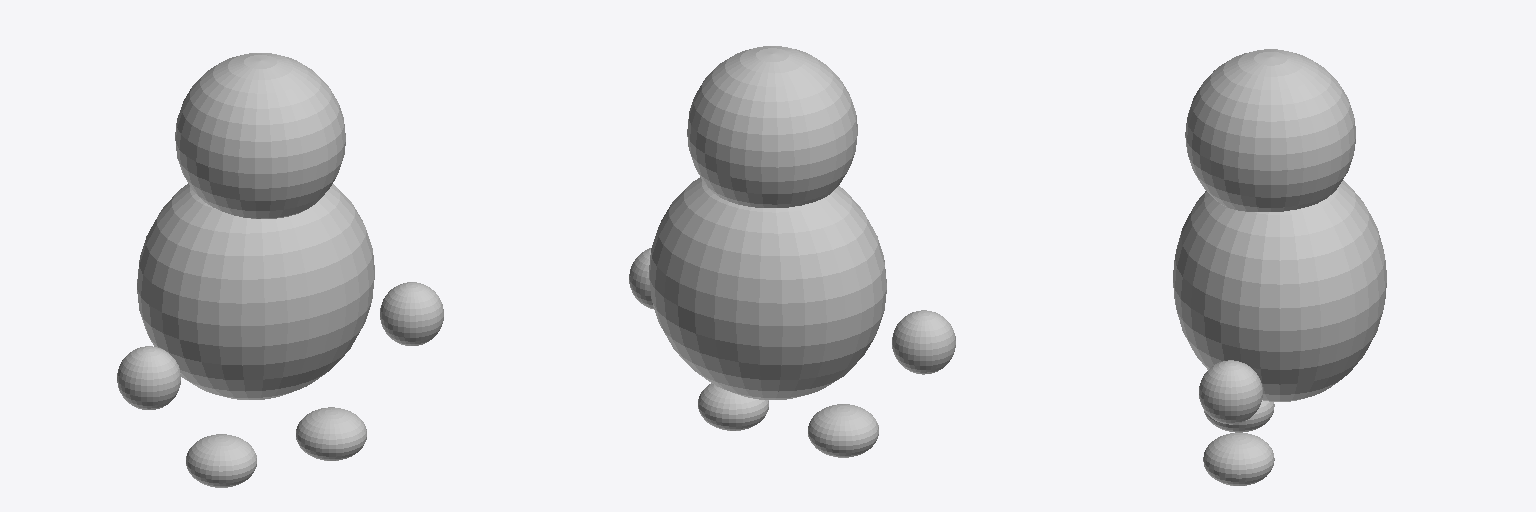
The model's file is char.obj.
3 renders of one model, left to right at view 1: azimuth 30°, elevation 25°; view 2: azimuth 150°, elevation 25°; view 3: azimuth 270°, elevation 25°, orthographic.
Parts seen in each view (by area): view 1: Sphere.003; view 2: Sphere.003; view 3: Sphere.003.
Boxes of the visible parts, x1,y1,x2,y2 form: Sphere.003: [117, 53, 443, 487]; Sphere.003: [629, 46, 955, 457]; Sphere.003: [1173, 49, 1386, 485].
Bounding box in the file's own units: 1.74 × 2.07 × 1.01.